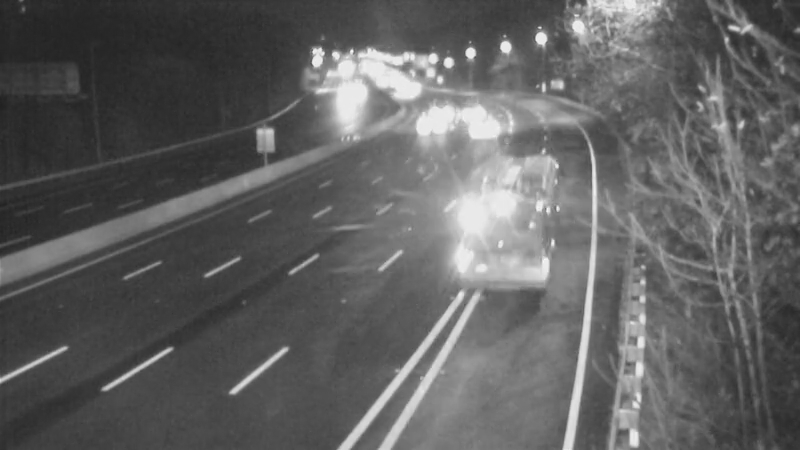vehicle: (465, 196, 545, 276), (373, 67, 423, 117), (441, 87, 491, 137), (411, 84, 461, 134), (402, 101, 452, 151), (448, 105, 498, 155)
